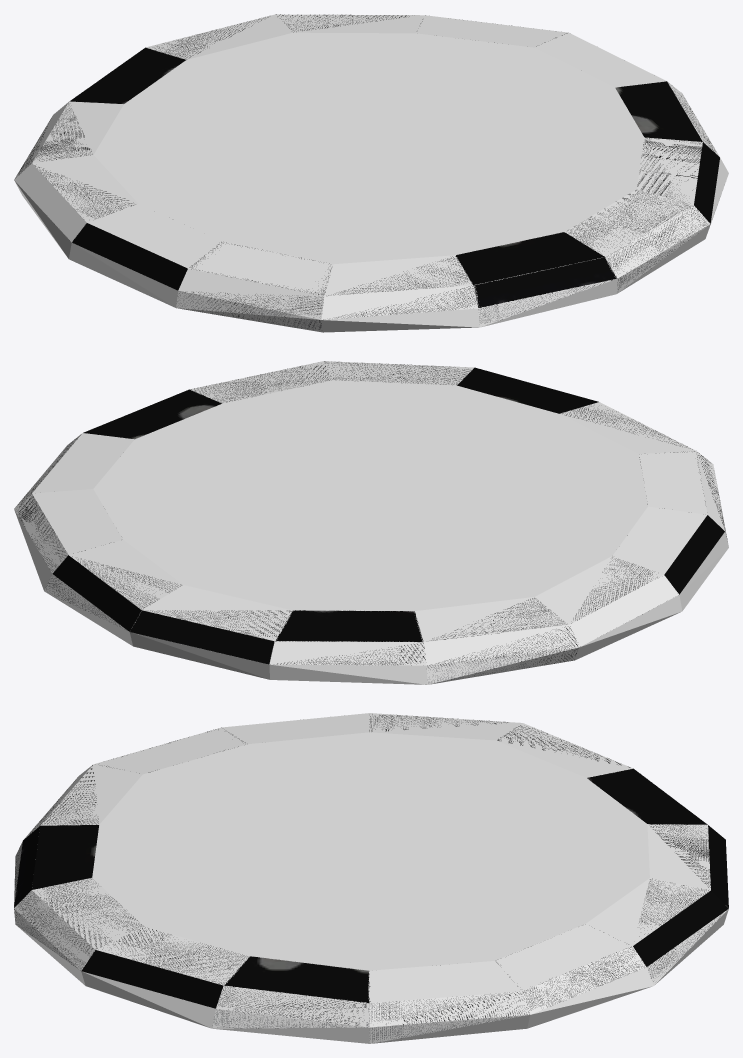
File: vent_grate.low.webp.glb
3 renders of one model, top to bottom at view 1: azimuth 30°, elevation 25°; view 2: azimuth 150°, elevation 25°; view 3: azimuth 270°, elevation 25°, orthographic. The views are drawn at different scales.
Visible parts, largest first — view 1: COL, LOD1_body; view 2: COL, LOD1_body; view 3: COL, LOD1_body.
Boxes of the visible parts, x1,y1,x2,y2 form: COL: (14,14,728,332); LOD1_body: (18,14,719,329); COL: (14,361,728,684); LOD1_body: (18,361,727,683); COL: (14,713,728,1043); LOD1_body: (14,714,728,1042).
Size of the model in its own units: 2 by 0.1199 by 1.97.
1 material, 1 textured.
